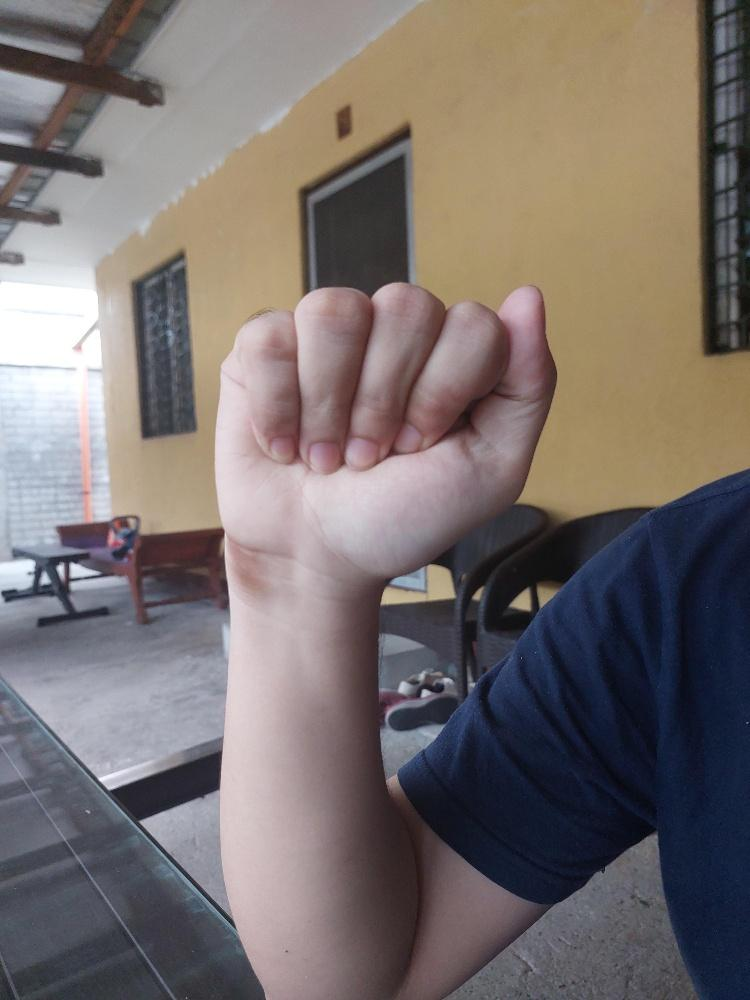a: (212, 269, 559, 589)
